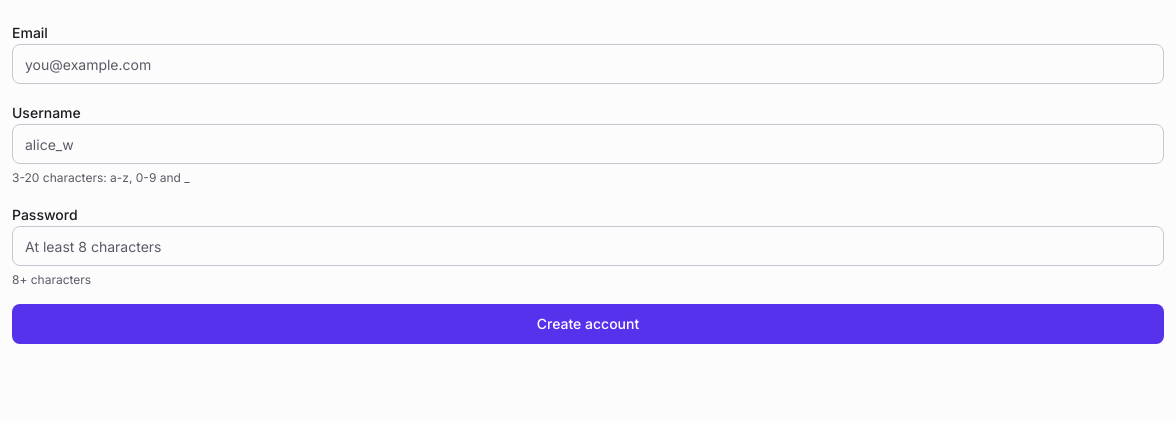
it: RegisterForm › shows a general error when the server gives no field errors
In the field labelled "Email": (588, 64) [12,44,1164,84], type "ada@example.com"
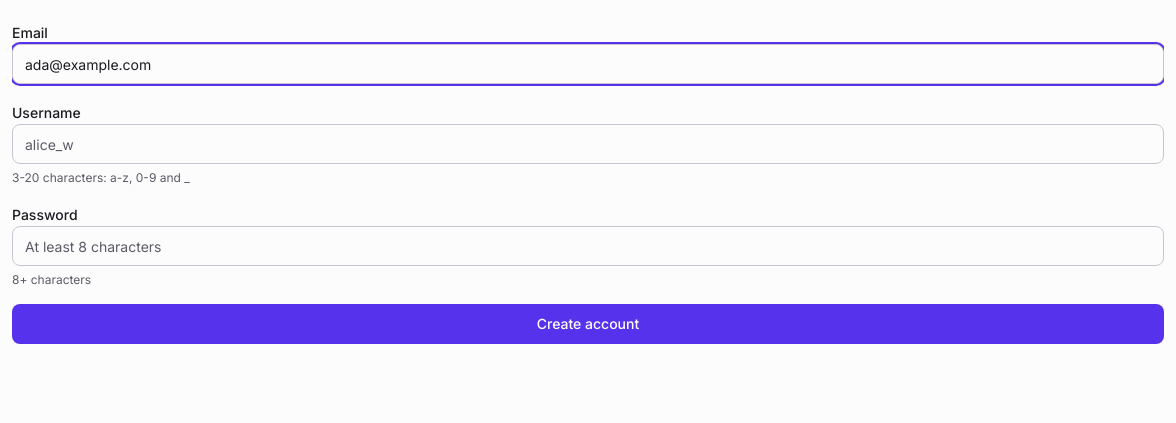
In the field labelled "Username": (588, 144) [12,124,1164,164], type "ada_1"
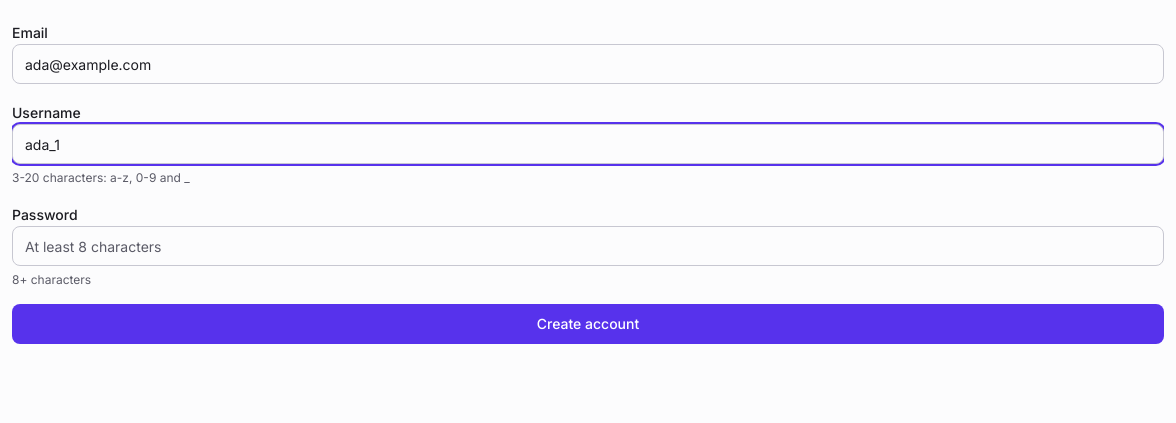
In the password field labelled "Password": (588, 246) [12,226,1164,266], type "longenough"
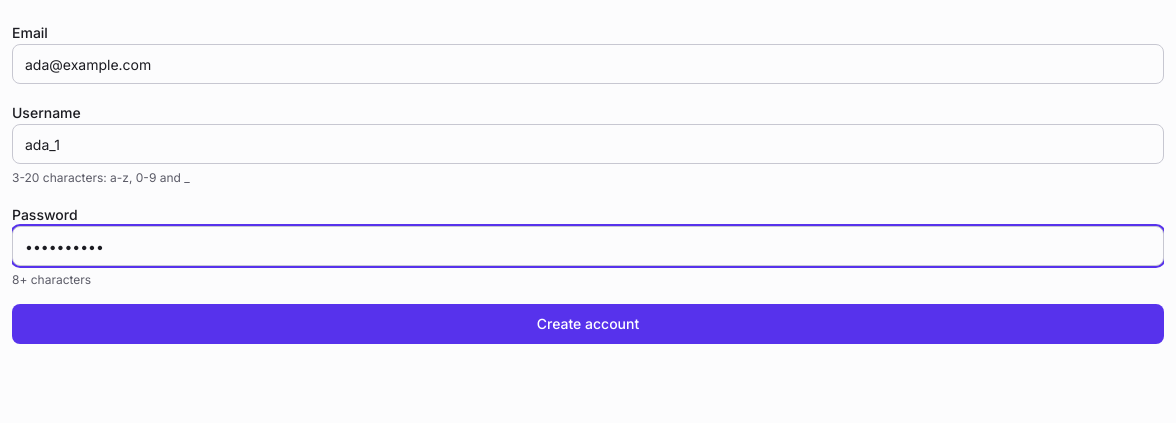
Click the button "Create account": click(588, 324) [12,304,1164,344]
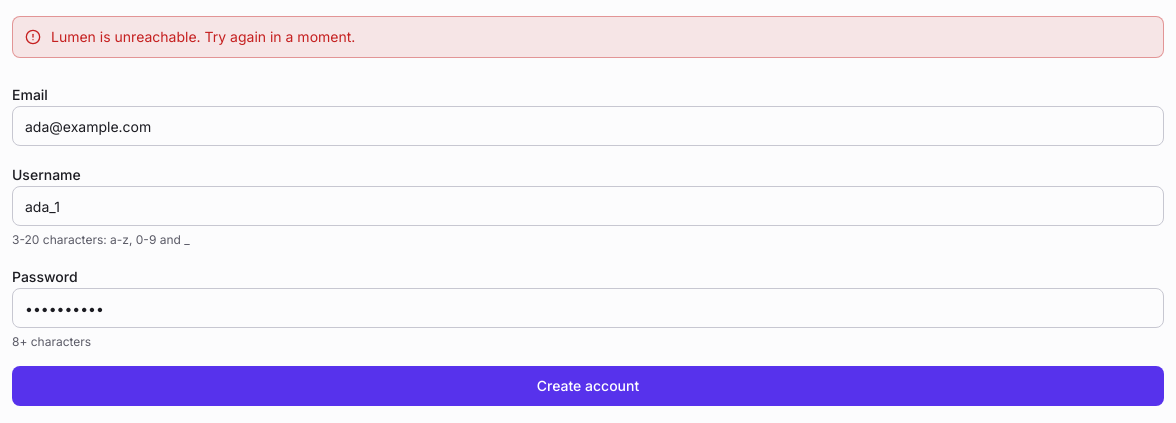
Expected: the message shows "Lumen is unreachable", [51,28,355,45]
